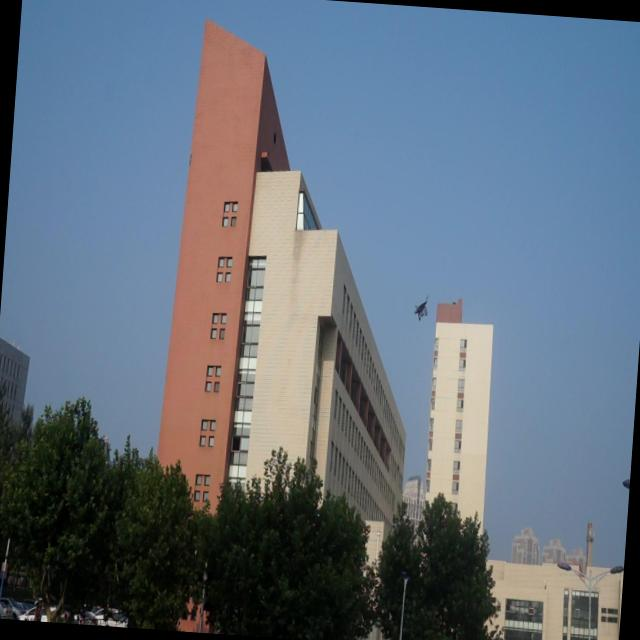drone: (412, 291, 431, 323)
